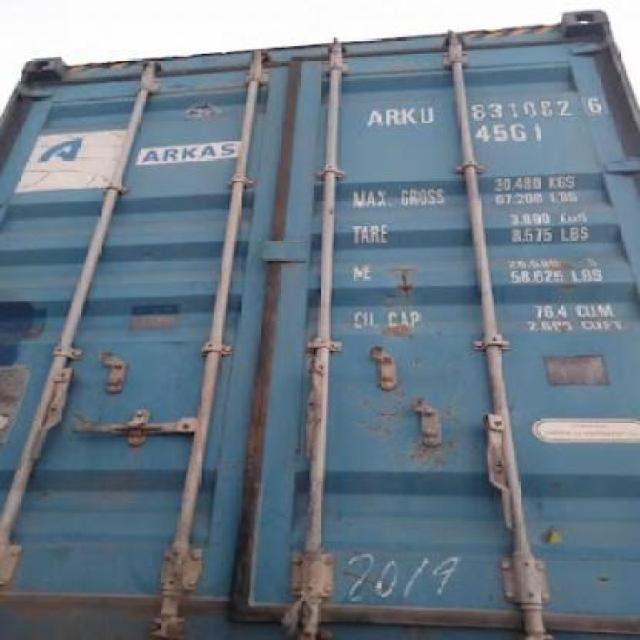ISO: (478, 123, 540, 144)
container_number: (372, 93, 616, 121)
